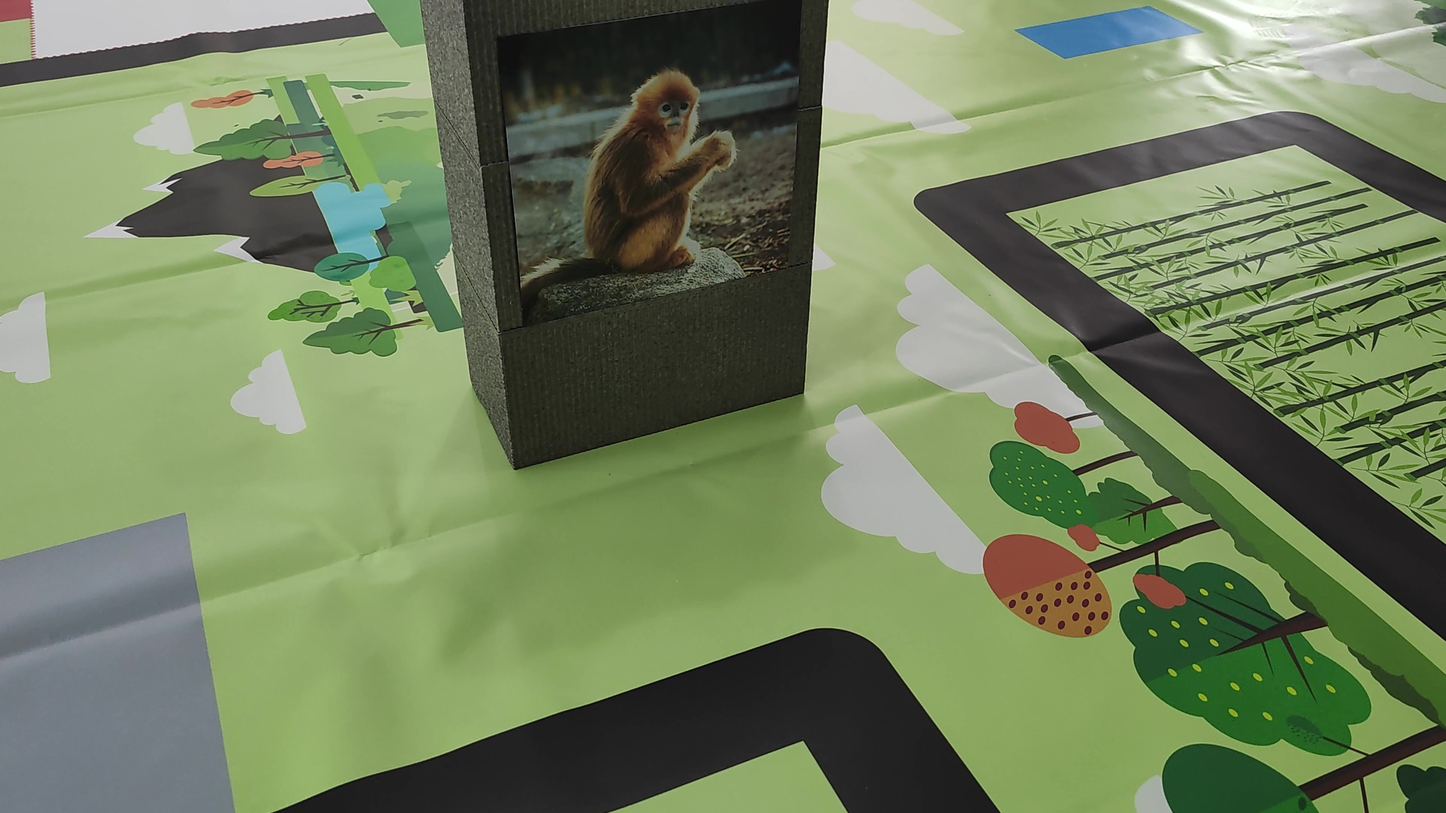monkey: (519, 50, 735, 341)
